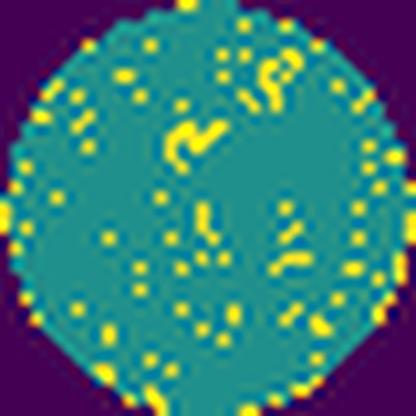Loc: (160, 113, 230, 176), (255, 57, 282, 111)
